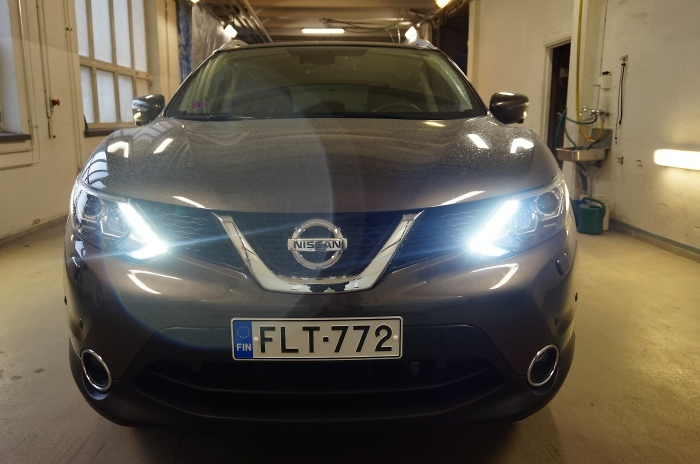license: (226, 318, 400, 364)
